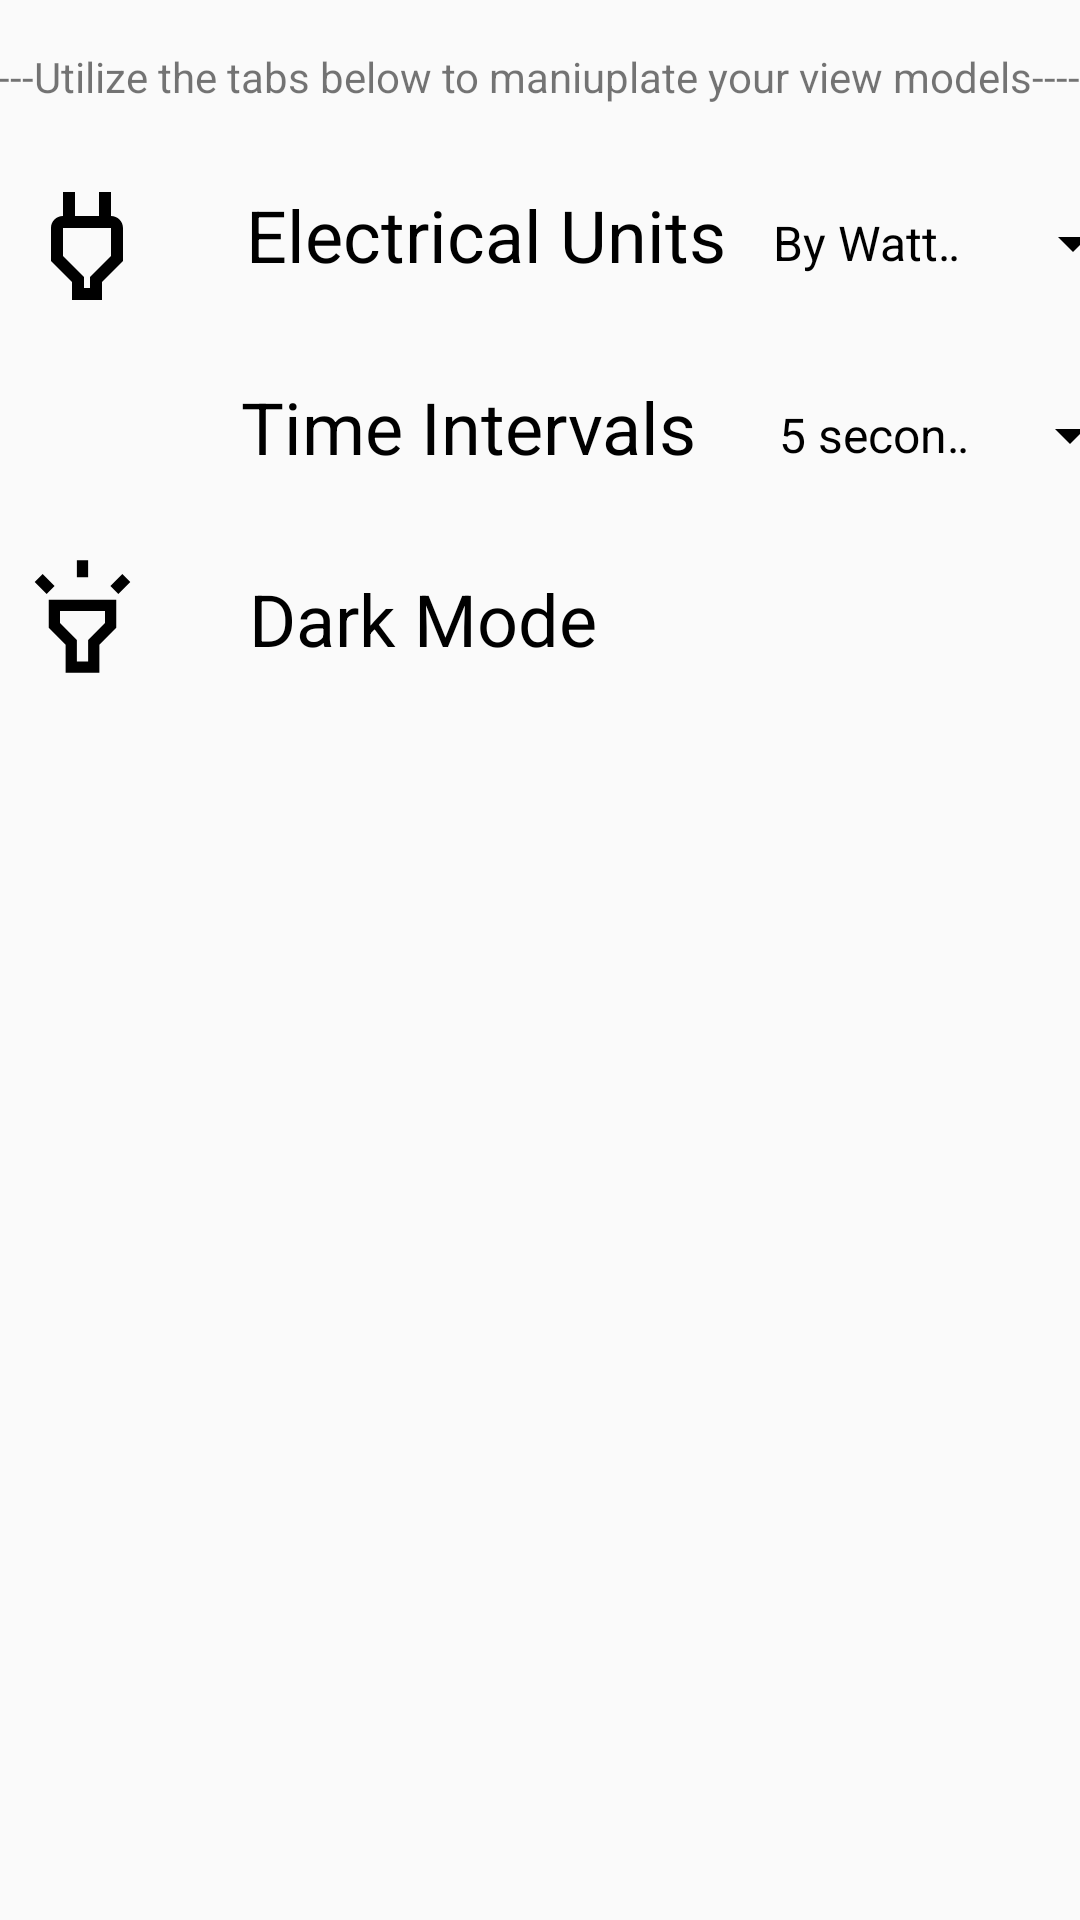

Icon click points for this 1080x1920 phone screenshot, format (x=x, y=y):
highlight: (x=82, y=616)
power: (x=87, y=246)
